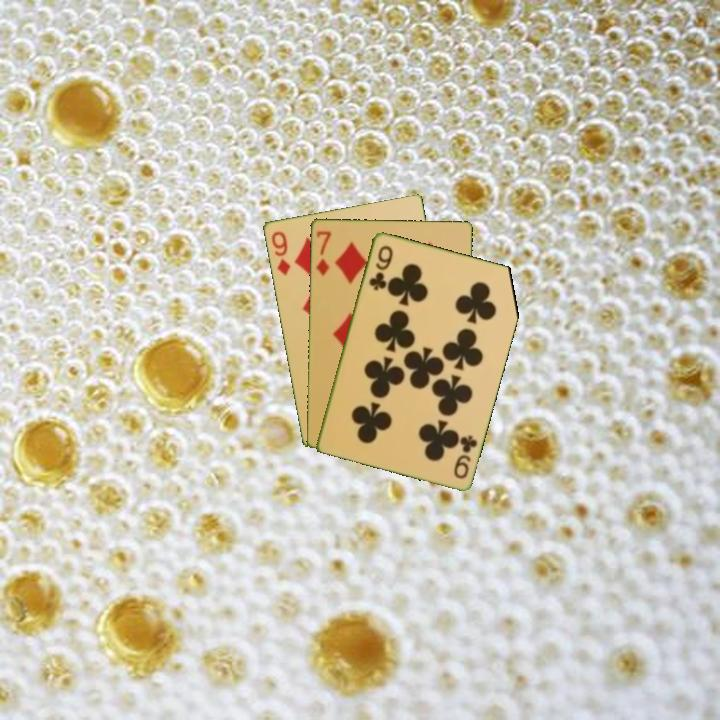7d: (312, 227, 333, 278)
9c: (365, 241, 396, 293), (450, 431, 480, 481)
9d: (267, 227, 293, 278)
